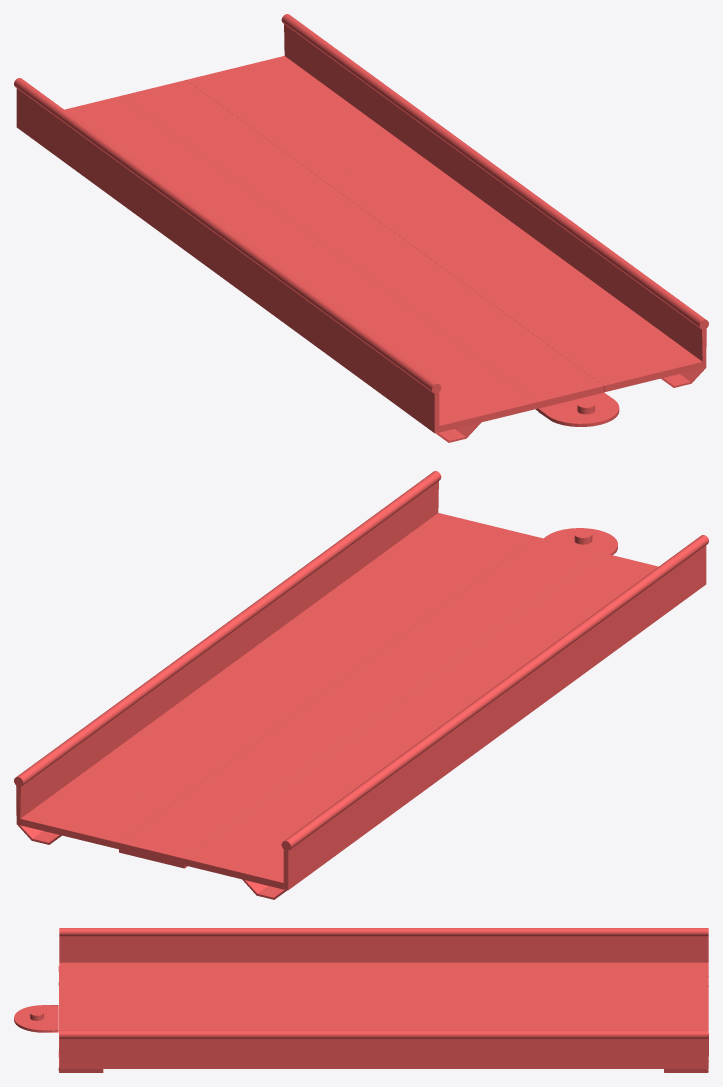
Rendered from trackpiece-lg.glb.
The picture shows the model from 3 angles, top to bottom: view 1: azimuth 30°, elevation 25°; view 2: azimuth 150°, elevation 25°; view 3: azimuth 270°, elevation 25°; orthographic projection. The views are drawn at different scales.
Parts seen in each view (by area): view 1: Track piece/short, Track piece/short.001; view 2: Track piece/short, Track piece/short.001; view 3: Track piece/short, Track piece/short.001.
Part boxes in pixels (bbox=[...]): Track piece/short: bbox=[14, 14, 708, 442]; Track piece/short.001: bbox=[538, 392, 619, 426]; Track piece/short: bbox=[14, 471, 708, 899]; Track piece/short.001: bbox=[544, 528, 617, 555]; Track piece/short: bbox=[58, 928, 708, 1072]; Track piece/short.001: bbox=[14, 1005, 58, 1032].
Size of the model in its own units: 8.34 by 1.78 by 23.31.
